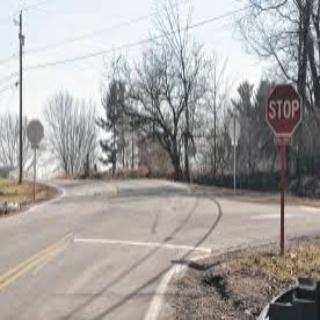sign_stop: (265, 84, 303, 137)
